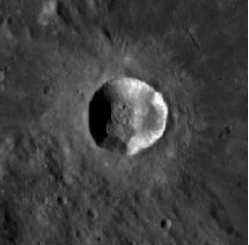crater: (47, 41, 200, 186)
